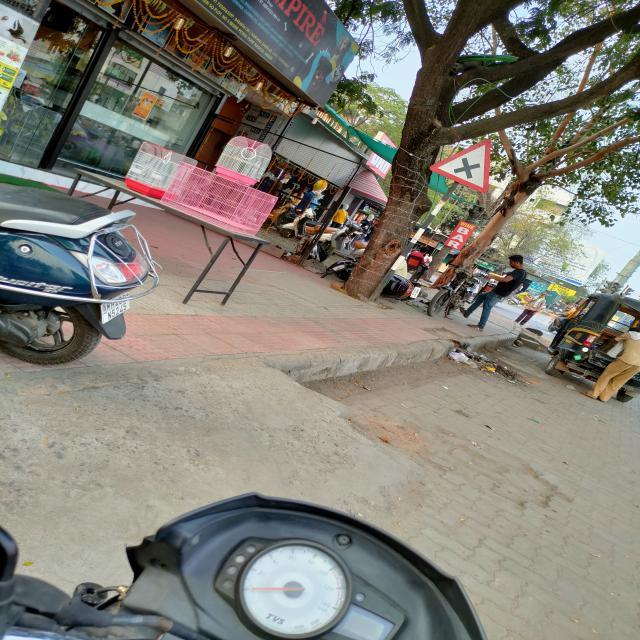cross road: (429, 138, 492, 194)
